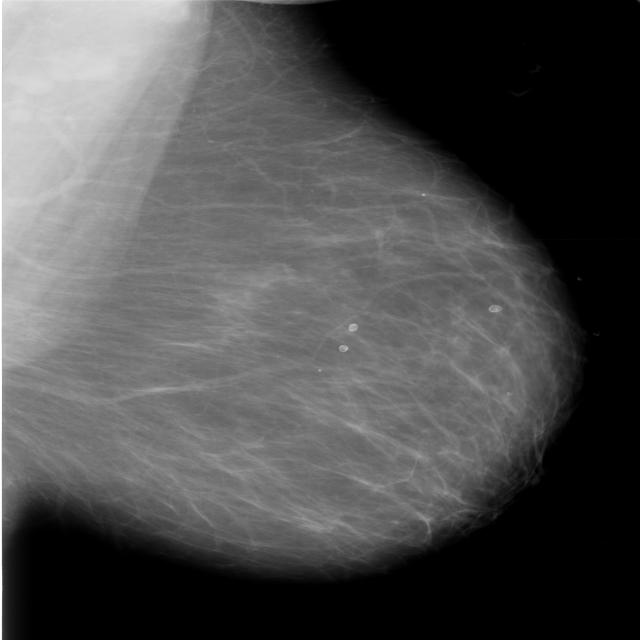normal: (0, 17, 588, 623)
